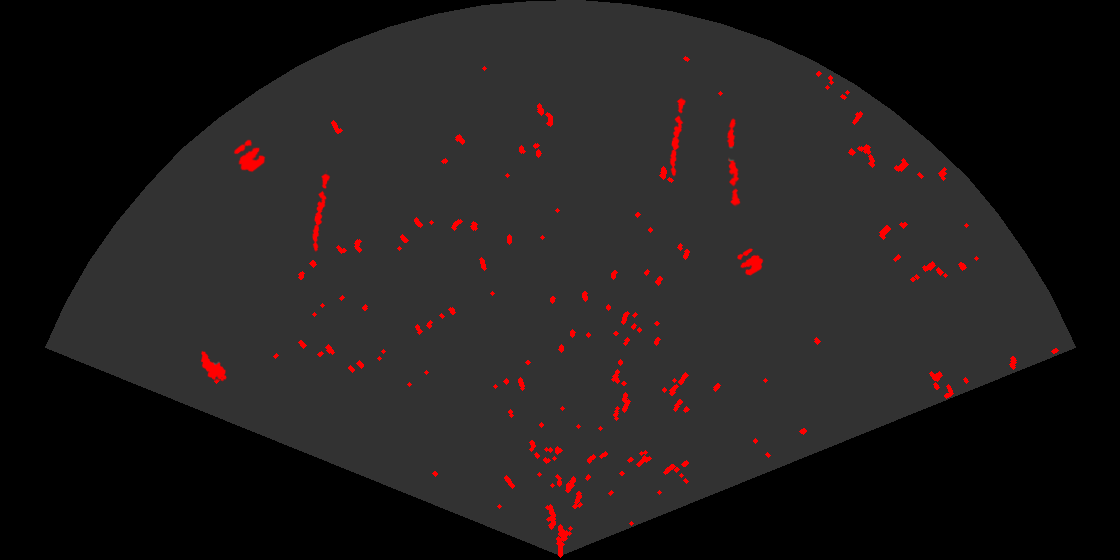AUV: (199, 349, 228, 383)
ball: (232, 138, 267, 174), (736, 247, 765, 277)
chain: (310, 170, 332, 253), (668, 95, 687, 177), (725, 117, 742, 207)
